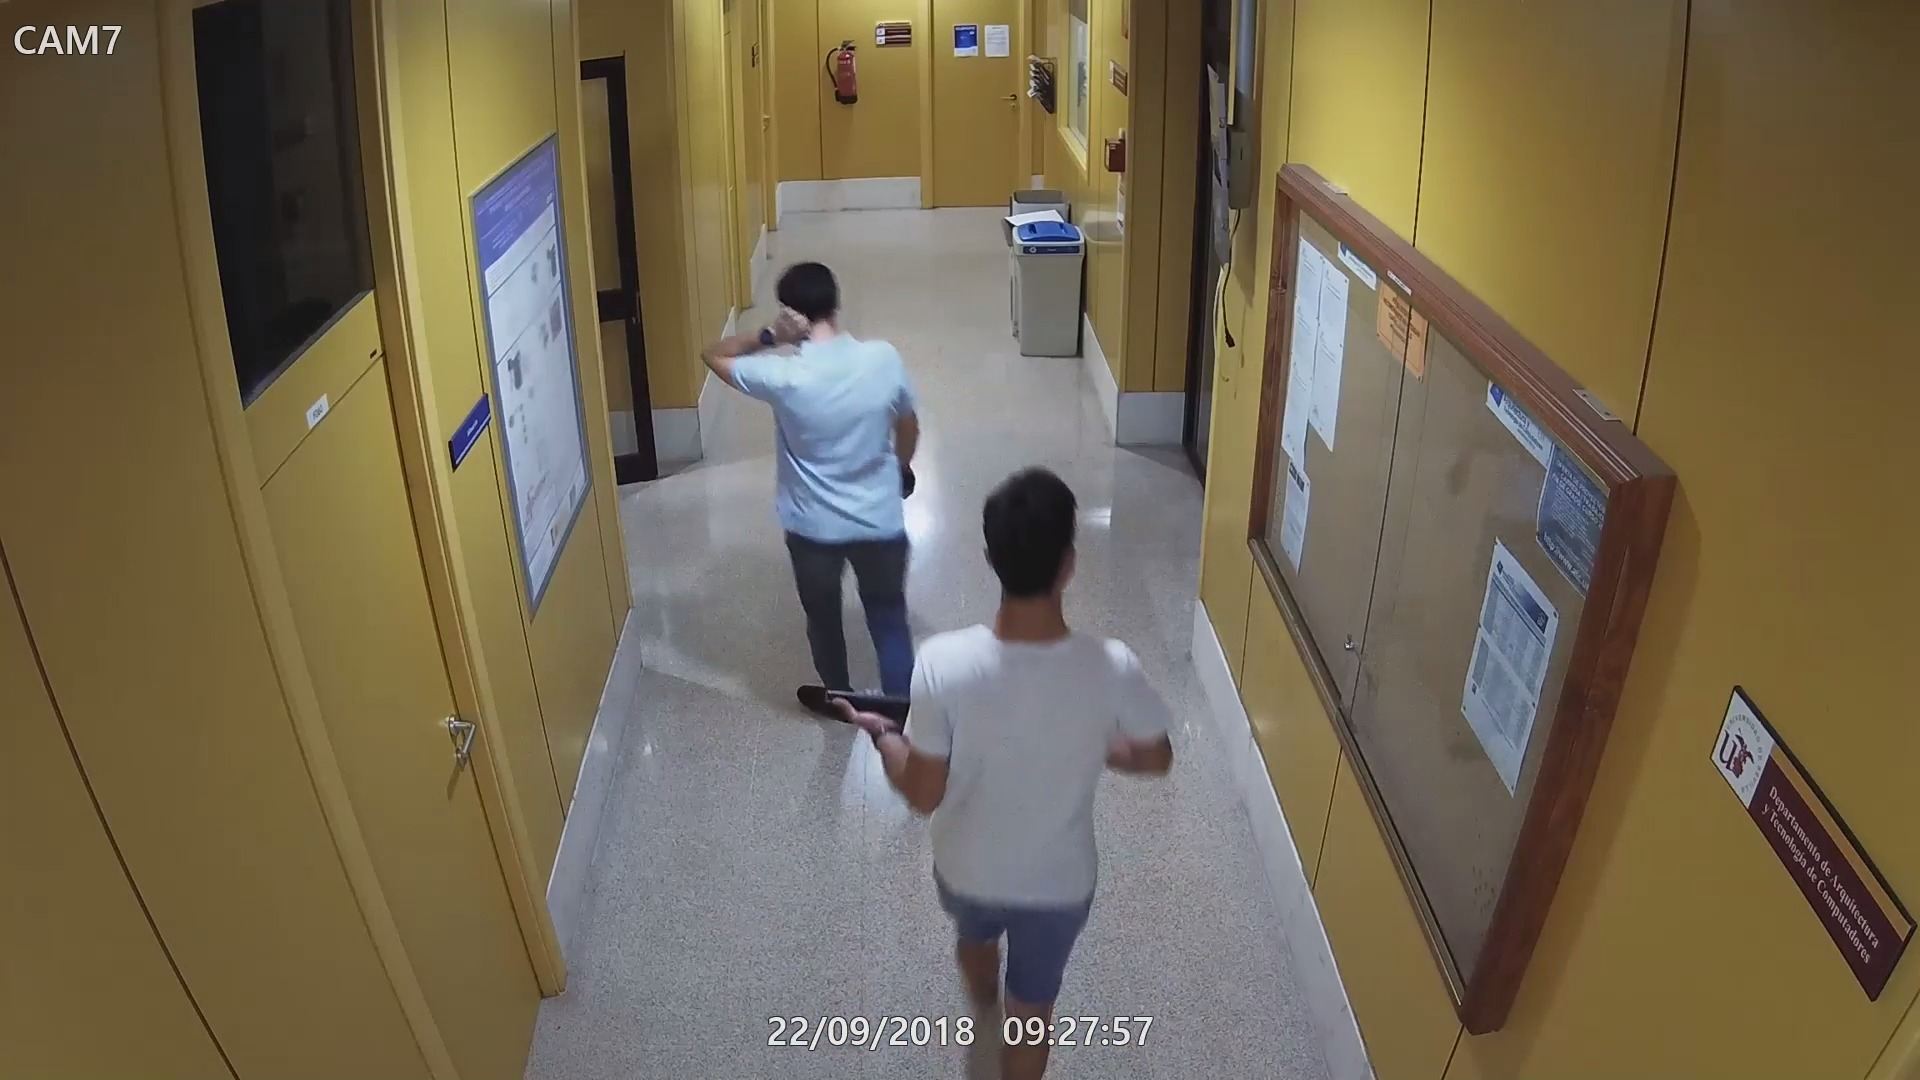Short_rifle: (822, 680, 913, 732)
